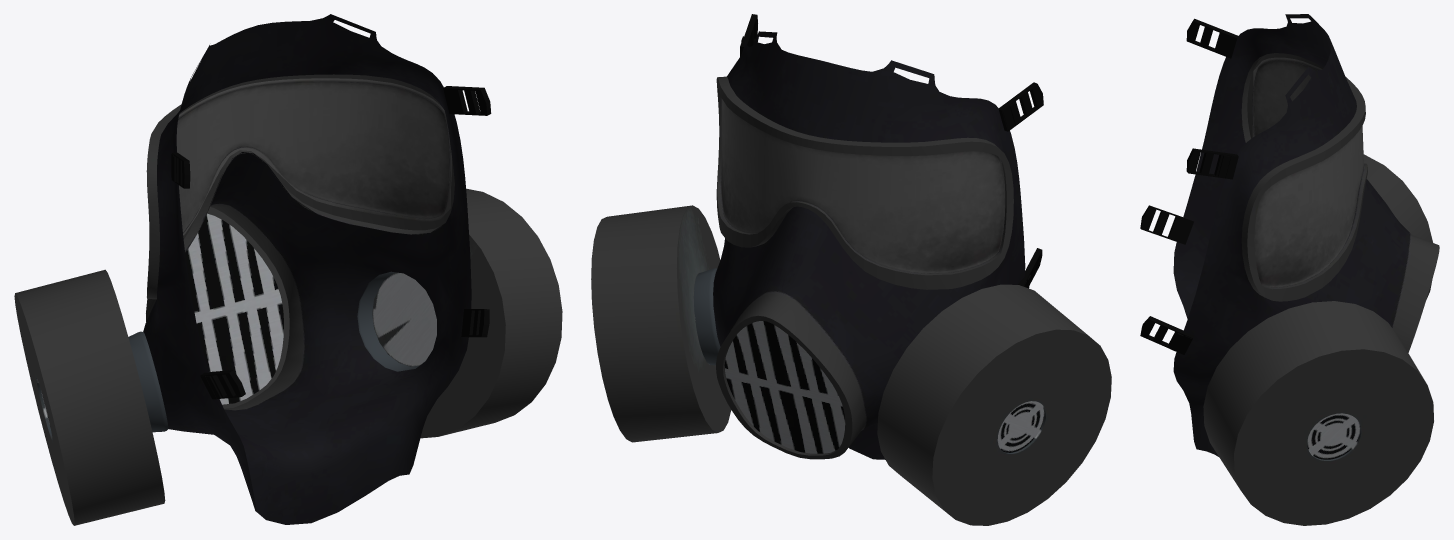
Rendered from gas_mask_black.glb.
The picture shows the model from 3 angles, left to right: view 1: azimuth 30°, elevation 25°; view 2: azimuth 150°, elevation 25°; view 3: azimuth 270°, elevation 25°; orthographic projection. The views are drawn at different scales.
Parts seen in each view (by area): view 1: gas_mask_black_4, gas_mask_black_3; view 2: gas_mask_black_4, gas_mask_black_3; view 3: gas_mask_black_4, gas_mask_black_3.
Boxes of the visible parts, x1=… form: gas_mask_black_4: x1=14, y1=14, x2=562, y2=525; gas_mask_black_3: x1=171, y1=86, x2=491, y2=399; gas_mask_black_4: x1=591, y1=31, x2=1111, y2=525; gas_mask_black_3: x1=740, y1=14, x2=1043, y2=288; gas_mask_black_4: x1=1173, y1=14, x2=1439, y2=525; gas_mask_black_3: x1=1140, y1=18, x2=1238, y2=354.
Bounding box in the file's own units: 0.289 × 0.2526 × 0.1644.
2 materials, 1 textured.
